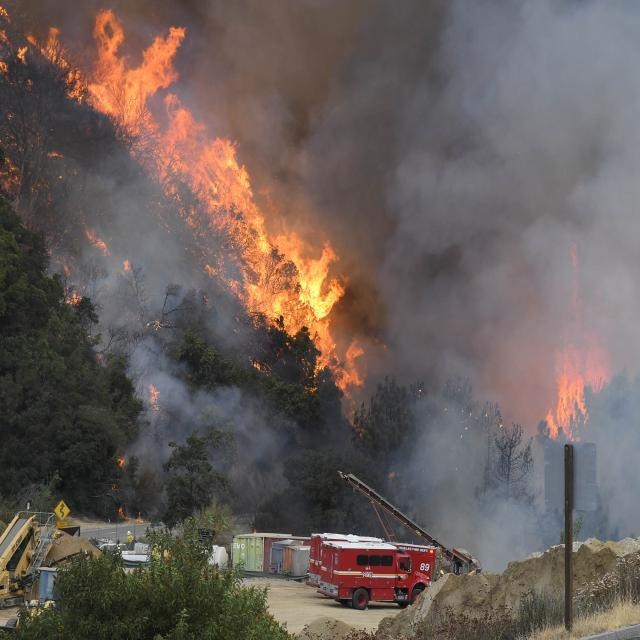Fire: (54, 0, 368, 398)
Smoke: (207, 0, 640, 591), (0, 0, 310, 558)
